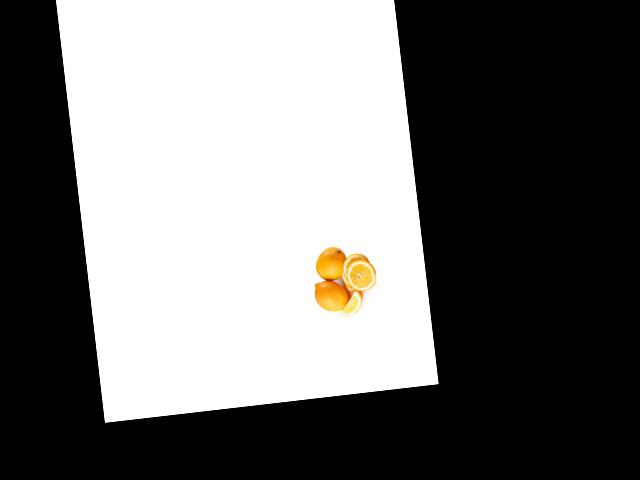lemon: (313, 246, 347, 285)
